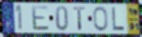0: (54, 5, 70, 32)
1: (14, 4, 23, 32)
E: (30, 5, 50, 32)
L: (111, 6, 126, 32)
O: (92, 5, 109, 32)
T: (73, 6, 87, 31)
